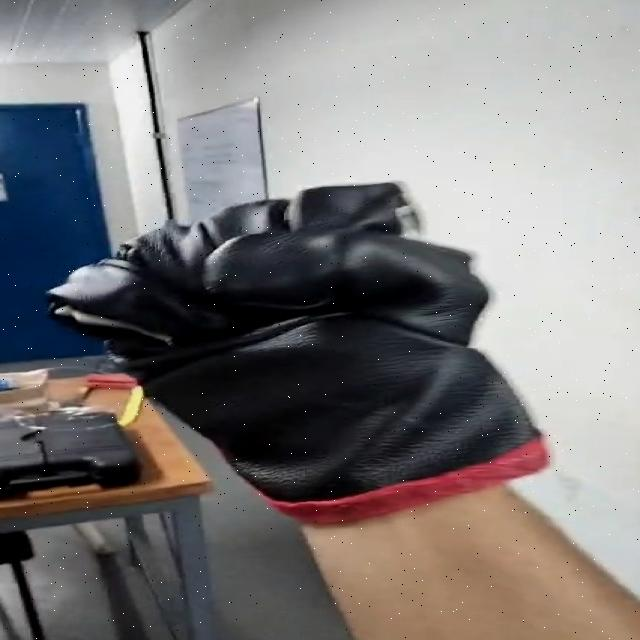Gloves: (44, 184, 550, 522)
